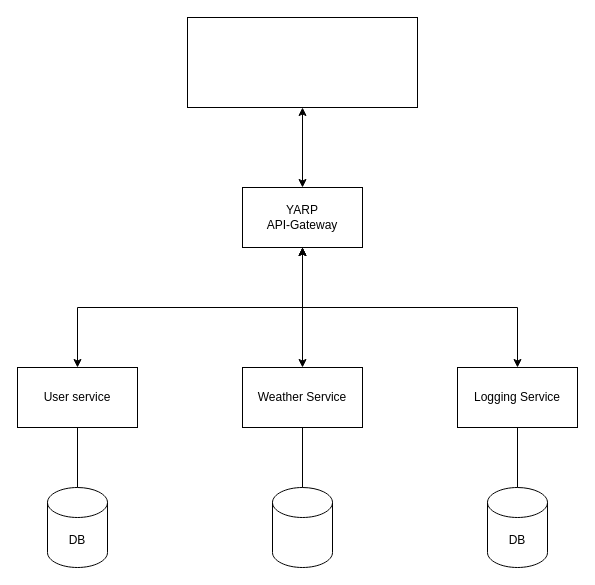
Image size: 595x585. Some labels were removed from this diagram. Here are the shapes that lost their labels. From the top down, the centre of each, then its label:
the point at 302,62: NextJS Frontend
the point at 302,527: Redis
